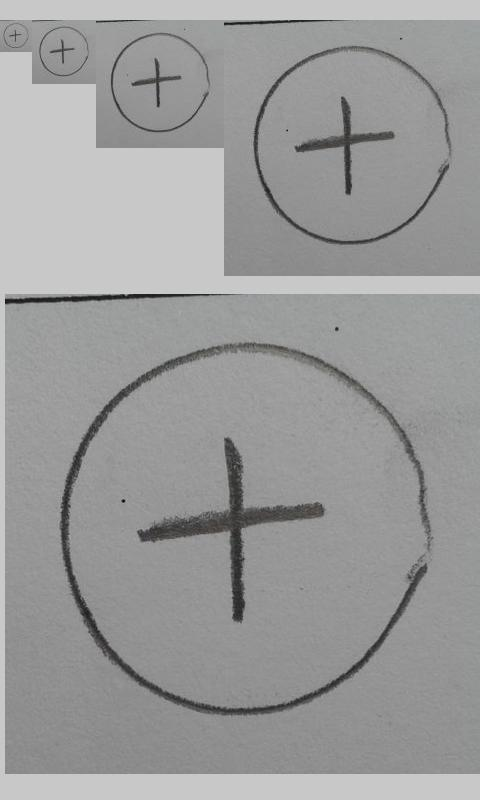button: (57, 340, 434, 719), (253, 45, 454, 246), (109, 31, 211, 134), (39, 26, 89, 77), (3, 22, 29, 49)
